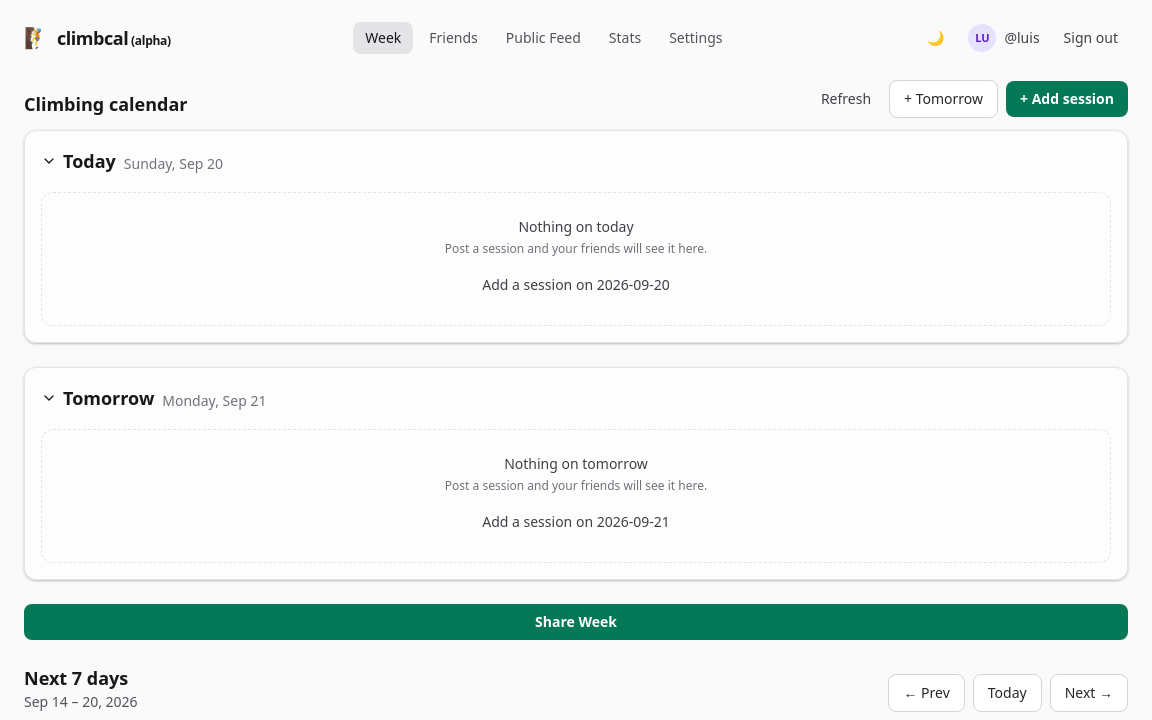
Test case: <Week /> › opens your wall from the header profile chip
What coordinates should you click on to do the following:
click the link with aria-label "your wall"
I would click on:
 (1004, 38)
Its box is [962,20,1046,56].
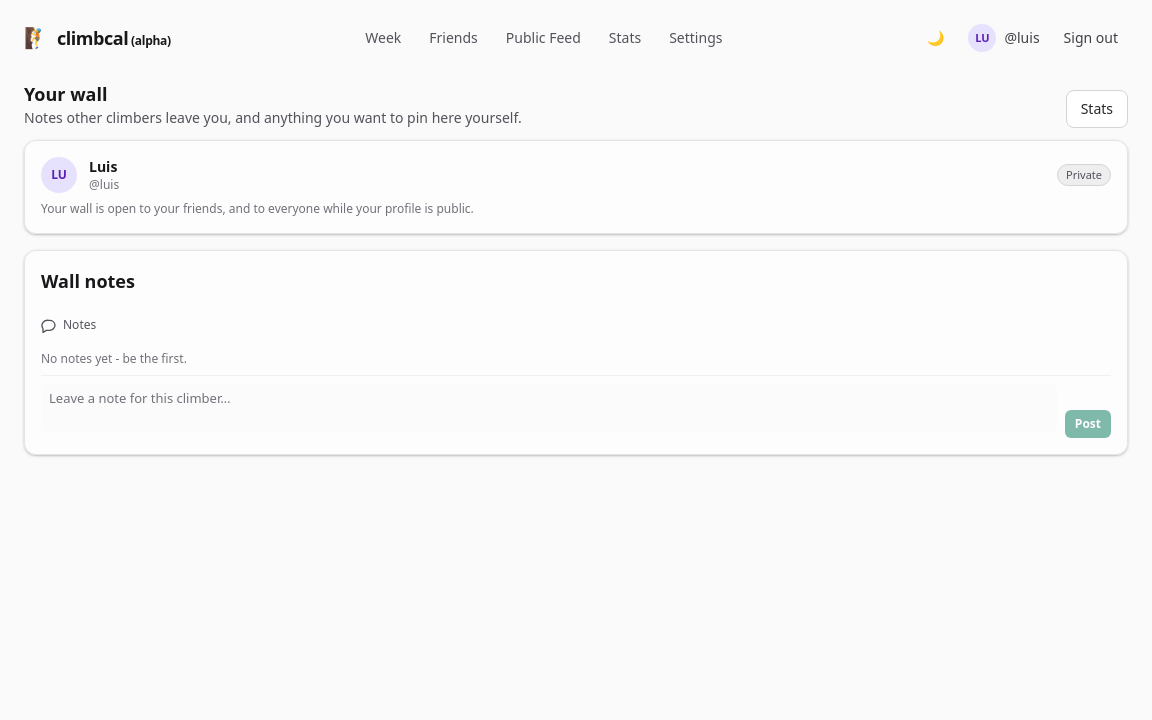
Check: the heading "Your wall" is shown, box [24,82,107,106]
